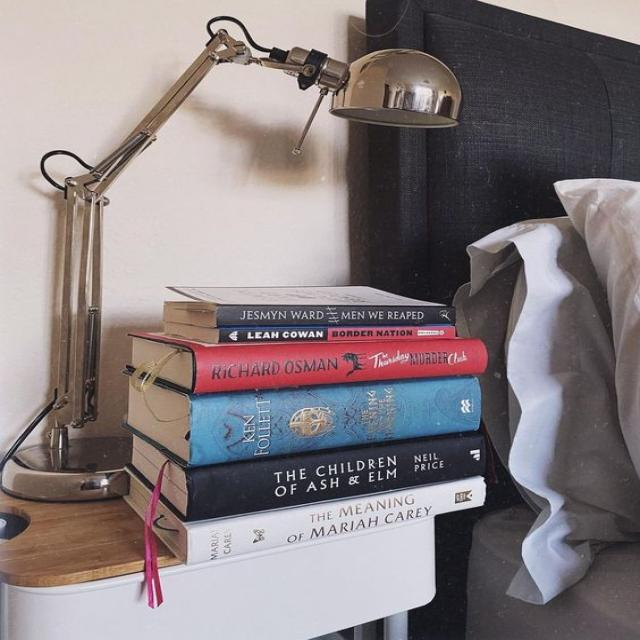book: (187, 434, 485, 523), (191, 377, 481, 467), (189, 477, 487, 564), (193, 340, 486, 392), (216, 305, 455, 323), (220, 326, 456, 338)
